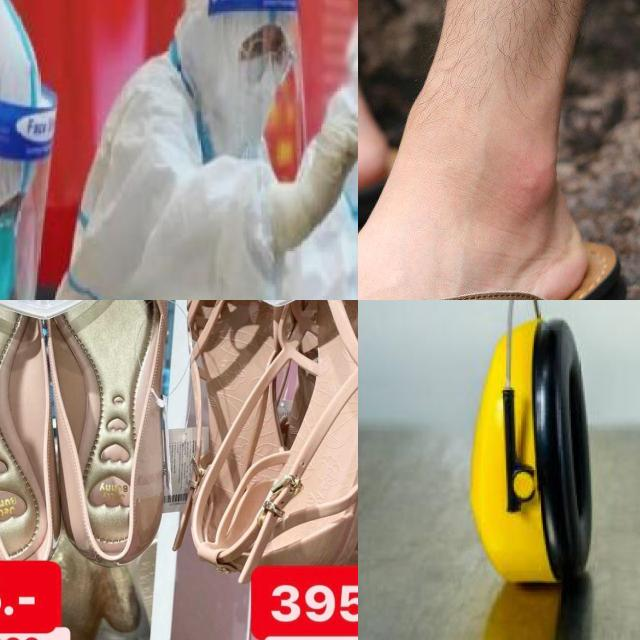Ear-protection: (480, 300, 640, 591)
Sandals: (174, 300, 358, 584), (0, 300, 175, 565), (358, 229, 620, 300)
face_mask: (220, 20, 291, 148), (0, 176, 26, 300)
glasses: (232, 32, 302, 88)
hand_glove: (292, 90, 358, 193)
